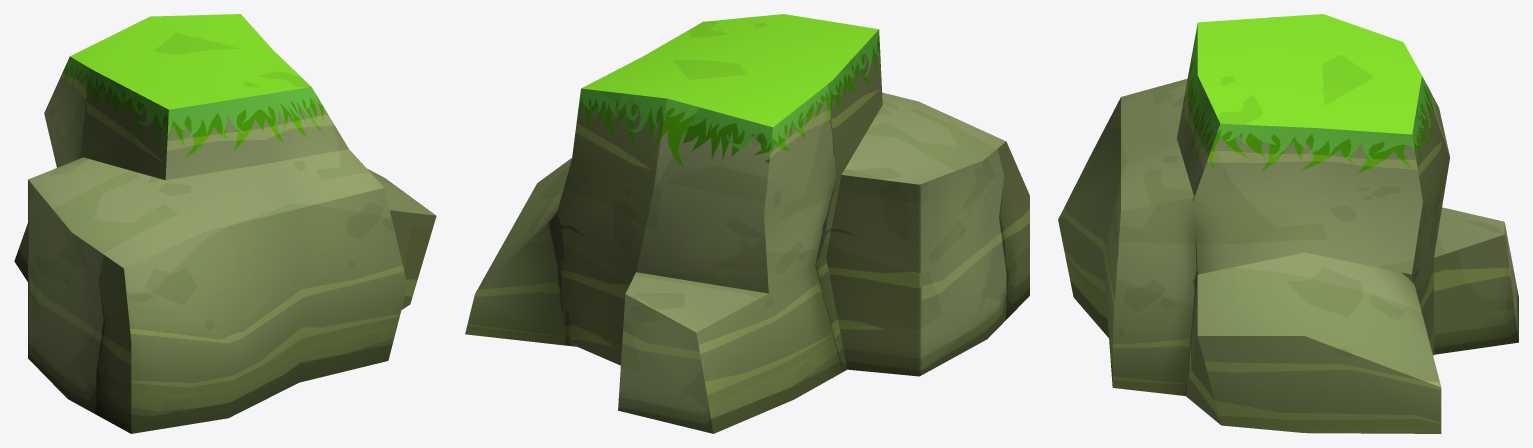
Rendered from F_W_O_rock_022.fbx.
3 renders of one model, left to right at view 1: azimuth 30°, elevation 25°; view 2: azimuth 150°, elevation 25°; view 3: azimuth 270°, elevation 25°, orthographic. The views are drawn at different scales.
Parts seen in each view (by area): view 1: F_W_O_rock_022; view 2: F_W_O_rock_022; view 3: F_W_O_rock_022.
Part boxes in pixels (box(x1,y1,x2,y2)): F_W_O_rock_022: box(14, 14, 436, 433); F_W_O_rock_022: box(465, 14, 1029, 433); F_W_O_rock_022: box(1058, 14, 1518, 433).
Bounding box in the file's own units: 4.36 × 2.97 × 4.52.
